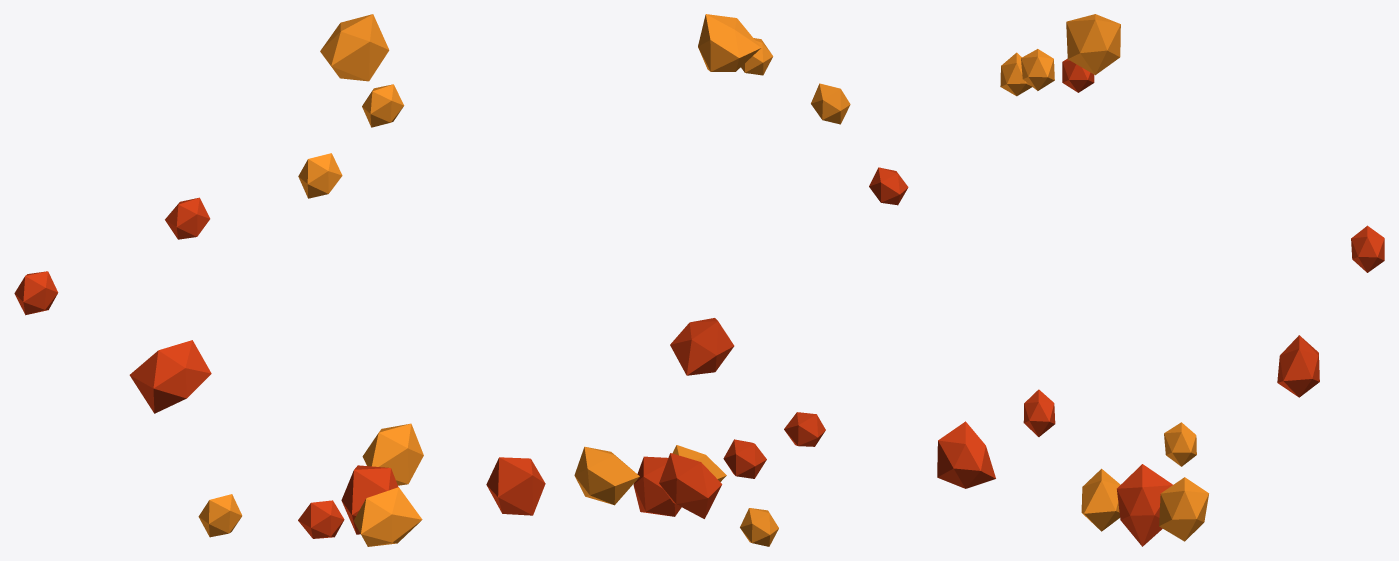
The model's file is frame_13.glb.
3 views of the same model, side by side, from view 1: azimuth 30°, elevation 25°; view 2: azimuth 150°, elevation 25°; view 3: azimuth 270°, elevation 25° (orthographic). The views are drawn at different scales.
Visible parts, largest first — view 1: effect_explosion_large_frame_13; view 2: effect_explosion_large_frame_13; view 3: effect_explosion_large_frame_13.
Boxes of the visible parts, x1,y1,x2,y2 form: effect_explosion_large_frame_13: (14, 14, 545, 546); effect_explosion_large_frame_13: (574, 14, 908, 546); effect_explosion_large_frame_13: (937, 14, 1384, 546).
Bounding box in the file's own units: 12.73 × 21.16 × 16.97.
